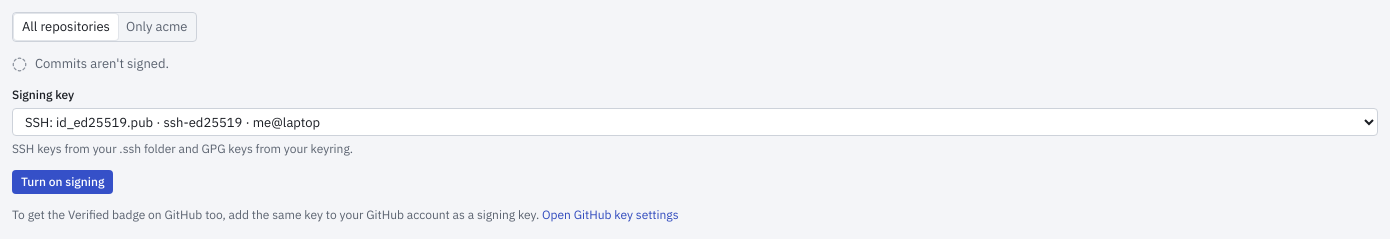
Scenario: SigningSettings › turns on signing globally with the chosen key
Expected: the text "Commits aren't signed." is shown, [12, 55, 169, 72]
Select "GPG: Me <me@example.com> · ABCDEF0123456789" in the dropdown labelled "Signing key" at [695, 122], box [12, 108, 1378, 136]
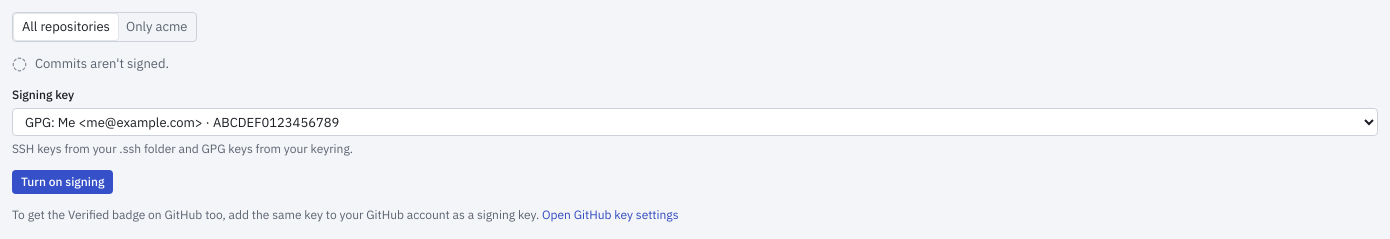
Click the button "Turn on signing" at [63, 182], box [12, 170, 113, 194]
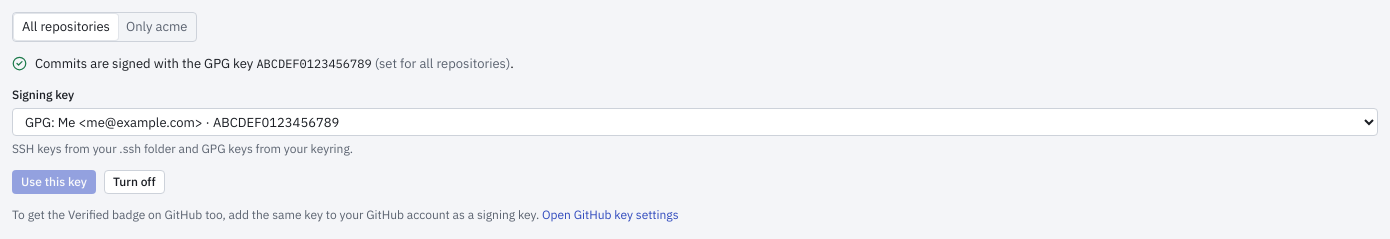
Now the text "(set for all repositories)" is shown, box [372, 55, 510, 72]
